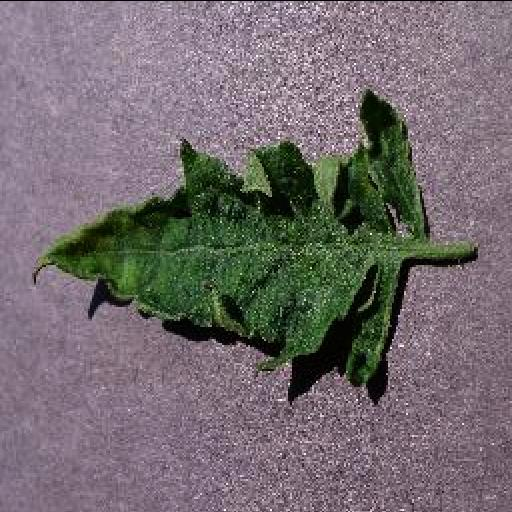disease_tomato: (30, 84, 430, 384)
